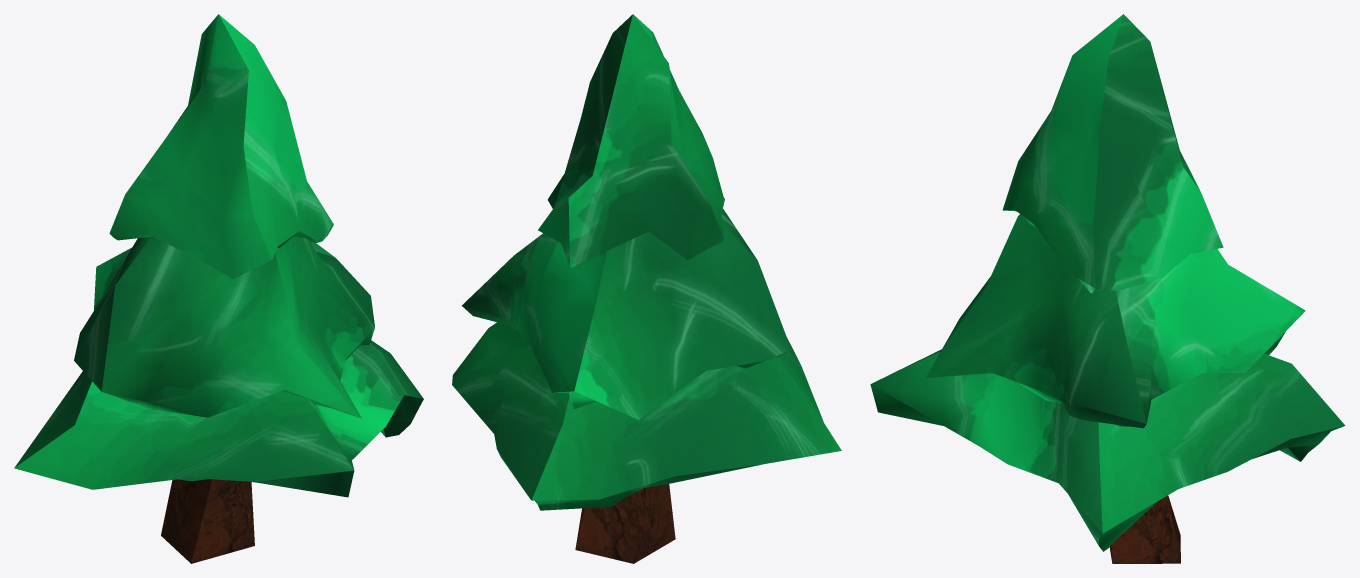
File: TreeStack2.fbx
3 renders of one model, left to right at view 1: azimuth 30°, elevation 25°; view 2: azimuth 150°, elevation 25°; view 3: azimuth 270°, elevation 25°, orthographic. The views are drawn at different scales.
Parts seen in each view (by area): view 1: polymsh; view 2: polymsh; view 3: polymsh.
Part boxes in pixels (left/top/right/bottom): polymsh: left=14, top=14, right=423, bottom=563; polymsh: left=452, top=14, right=841, bottom=563; polymsh: left=870, top=14, right=1345, bottom=563.
Size of the model in its own units: 55.47 by 70.2 by 56.52.
